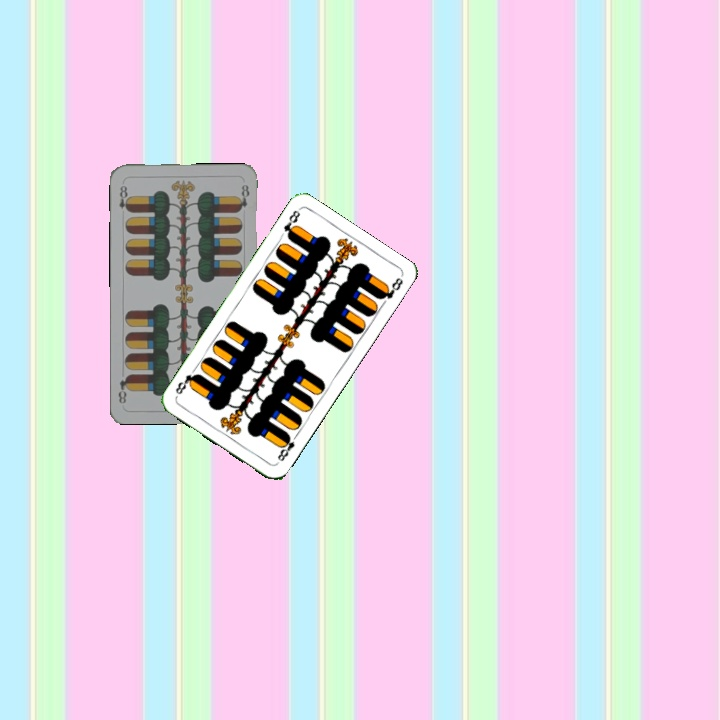E8: (273, 430, 300, 464), (279, 206, 303, 242), (115, 179, 132, 215)
